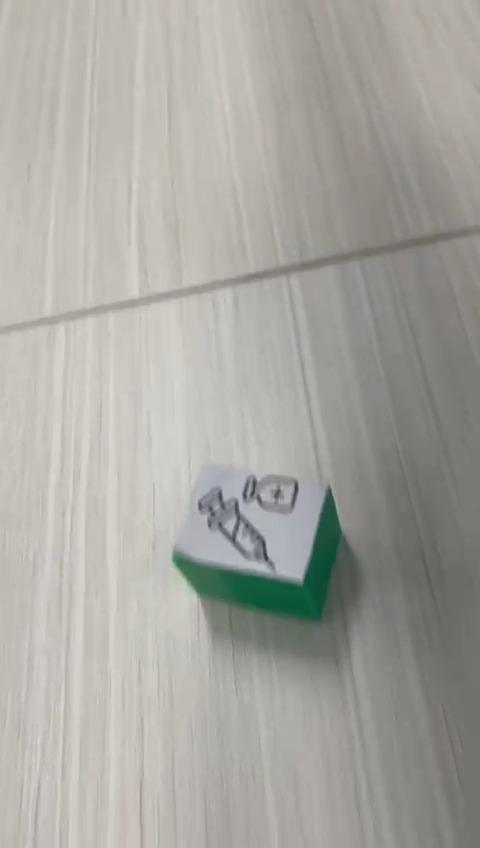antiseptic cream: (170, 460, 342, 620)
